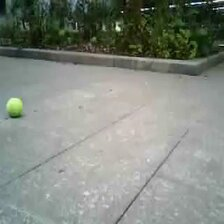tennis: (6, 97, 22, 115)
